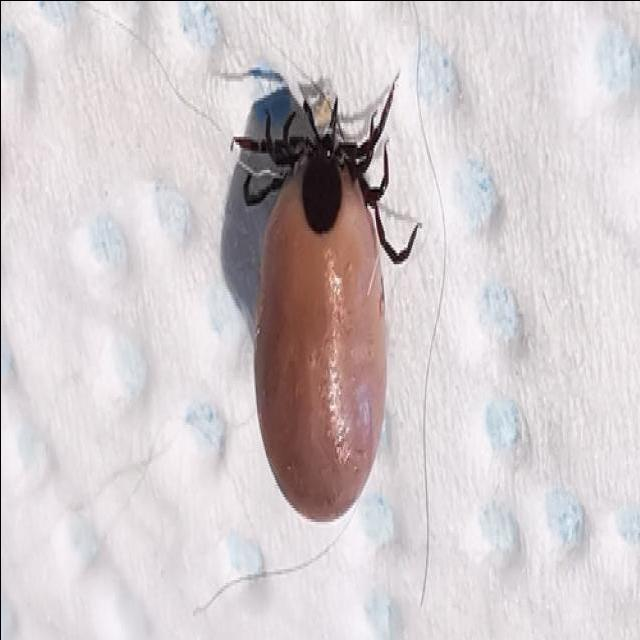Ixodes Ricinus-F-Fed: (230, 80, 420, 518)
